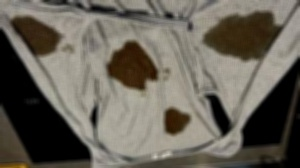coffee: (219, 22, 274, 57), (114, 50, 154, 86), (27, 26, 51, 49), (165, 110, 187, 132)
